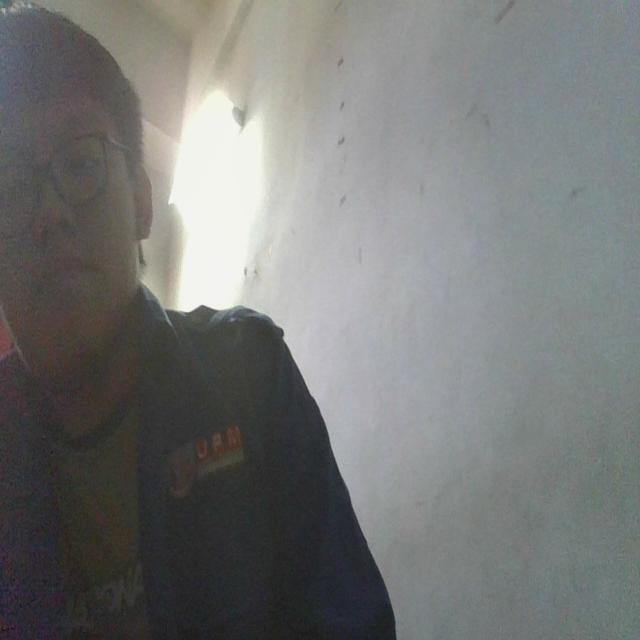person_with_labcoat: (0, 5, 396, 639)
